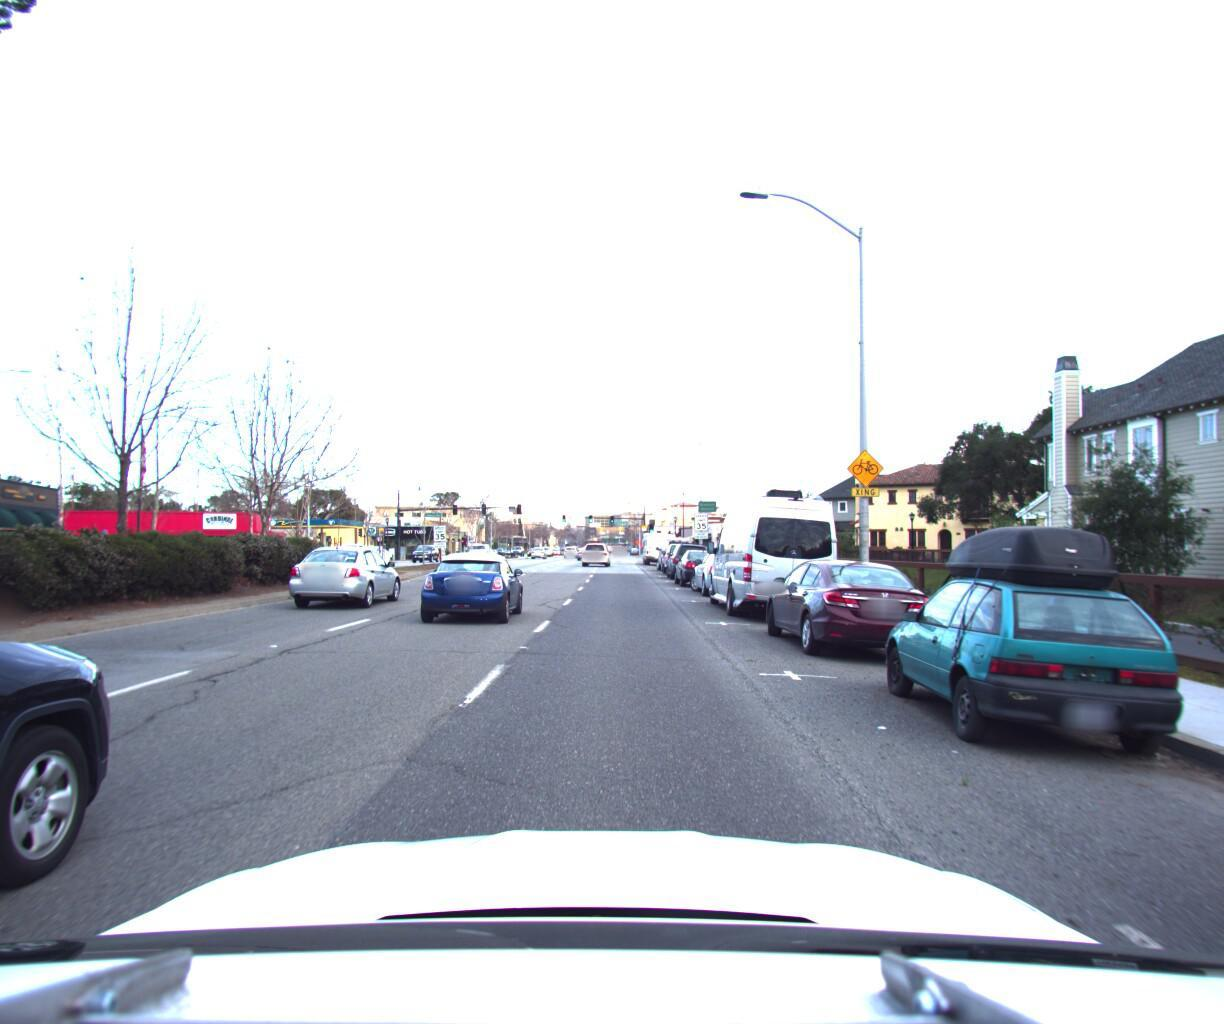car: (871, 515, 1215, 781), (760, 547, 947, 664), (285, 536, 411, 605), (418, 543, 530, 620), (688, 541, 767, 595), (671, 539, 726, 581), (664, 531, 713, 574), (662, 530, 703, 569), (578, 535, 610, 559)
truck: (702, 480, 846, 623), (655, 525, 696, 565), (640, 519, 676, 558)
